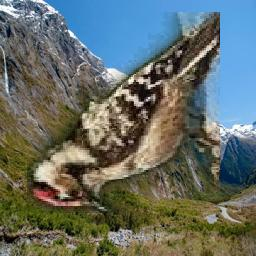Woodpecker: (28, 13, 221, 214)
